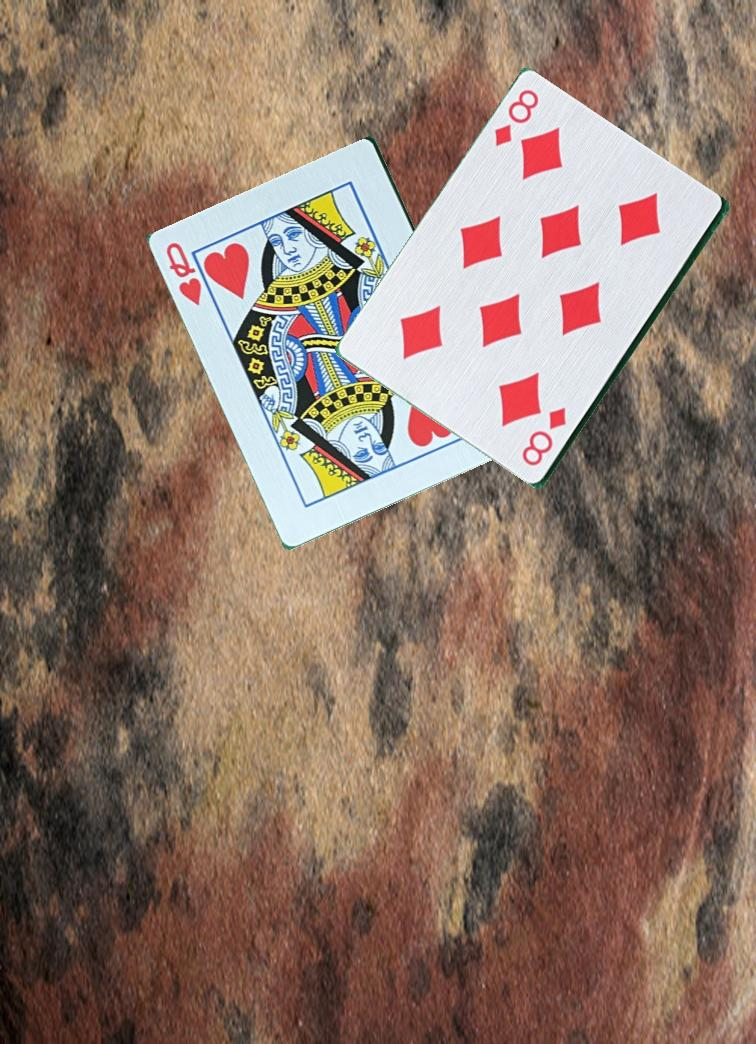8d: (518, 404, 570, 478), (488, 86, 543, 151)
qh: (163, 238, 206, 309)
